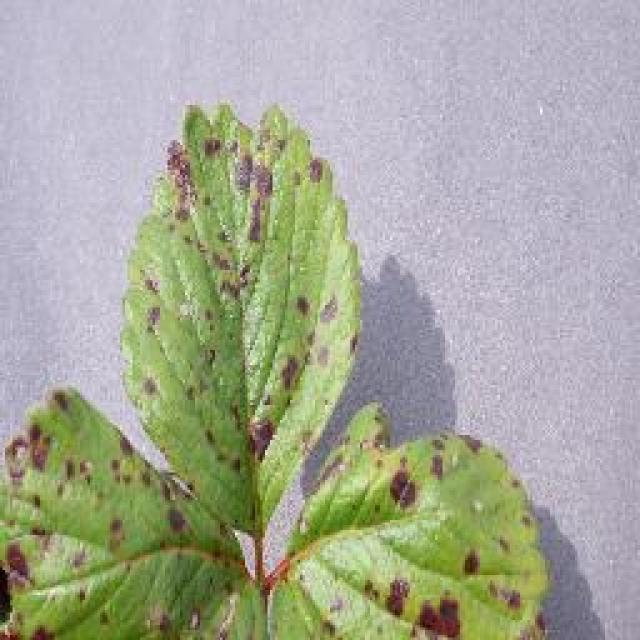Strawberry leaf scorch: (152, 178, 416, 607)
